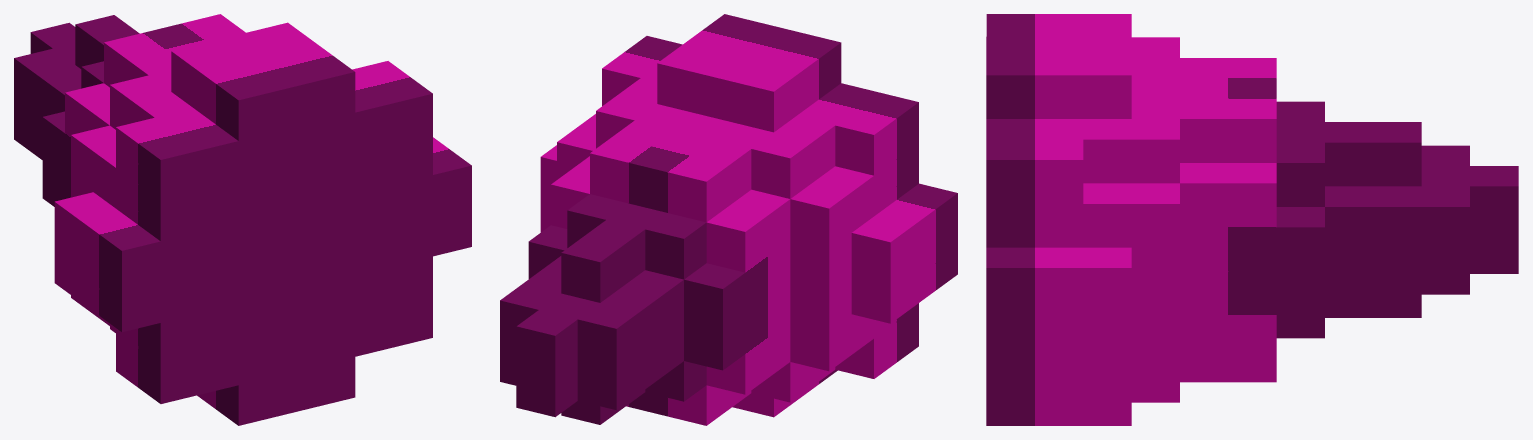
The model's file is Pincho.dae.
3 views of the same model, side by side, from view 1: azimuth 30°, elevation 25°; view 2: azimuth 150°, elevation 25°; view 3: azimuth 270°, elevation 25° (orthographic). The views are drawn at different scales.
Visible parts, largest first — view 1: Node-local; view 2: Node-local; view 3: Node-local.
Boxes of the visible parts, box(x1,y1,x2,y2) form: Node-local: box(14, 14, 471, 425); Node-local: box(500, 14, 957, 425); Node-local: box(986, 14, 1518, 425).
Size of the model in its own units: 9 by 8 by 11.
1 material, 1 textured.
